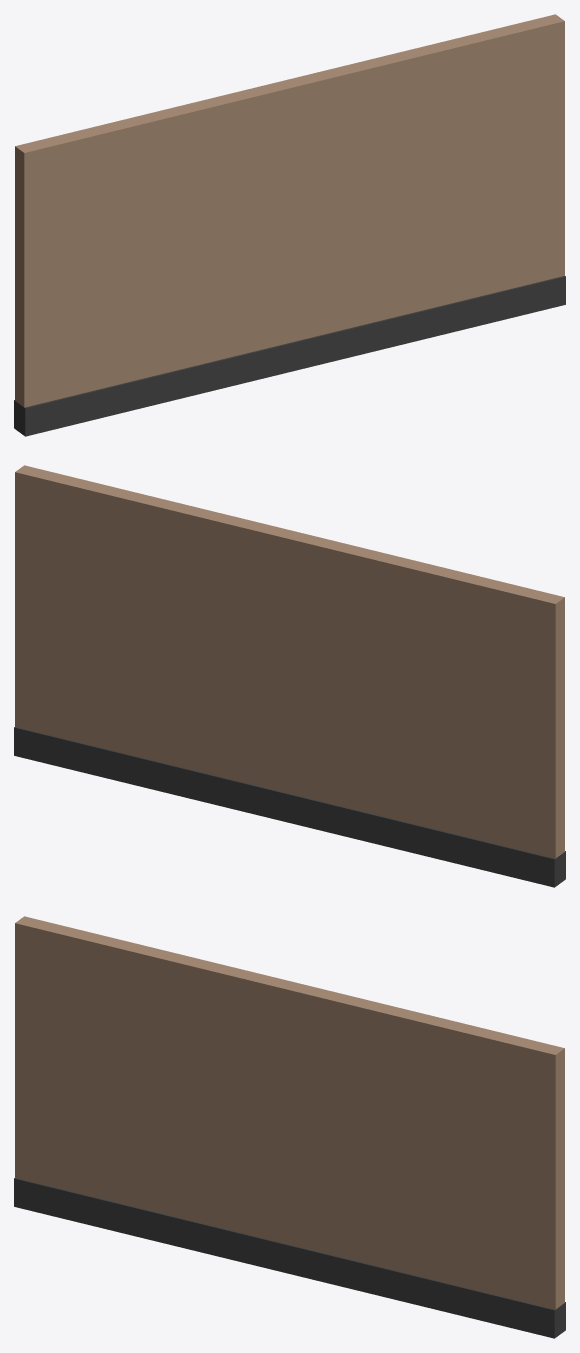
Rendered from Wall_03.glb.
3 renders of one model, top to bottom at view 1: azimuth 30°, elevation 25°; view 2: azimuth 150°, elevation 25°; view 3: azimuth 330°, elevation 25°, orthographic.
Parts seen in each view (by area): view 1: Wall_03; view 2: Wall_03; view 3: Wall_03.
Part boxes in pixels (x1,y1,x2,y2): Wall_03: (14,14,565,436); Wall_03: (14,465,565,887); Wall_03: (14,916,565,1338).
Size of the model in its own units: 10 by 5 by 0.3642.
1 material, 1 textured.
